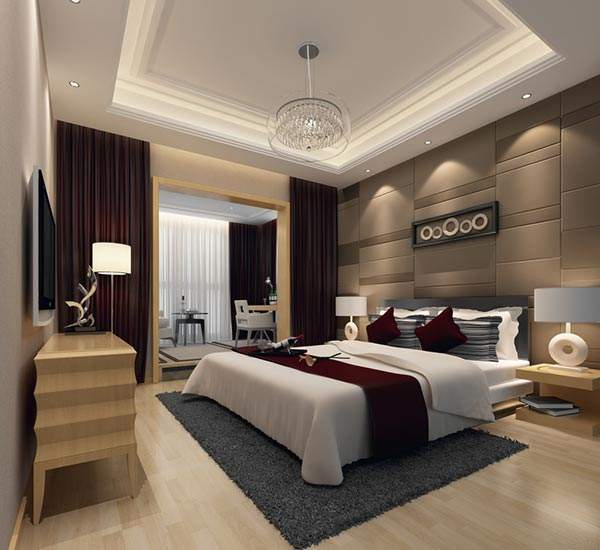床: (190, 332, 537, 470)
枕头: (365, 304, 519, 359)
灯: (266, 42, 356, 162), (531, 284, 592, 369), (86, 239, 130, 339), (335, 294, 375, 343), (62, 80, 79, 92), (520, 92, 538, 103), (423, 139, 438, 149)
